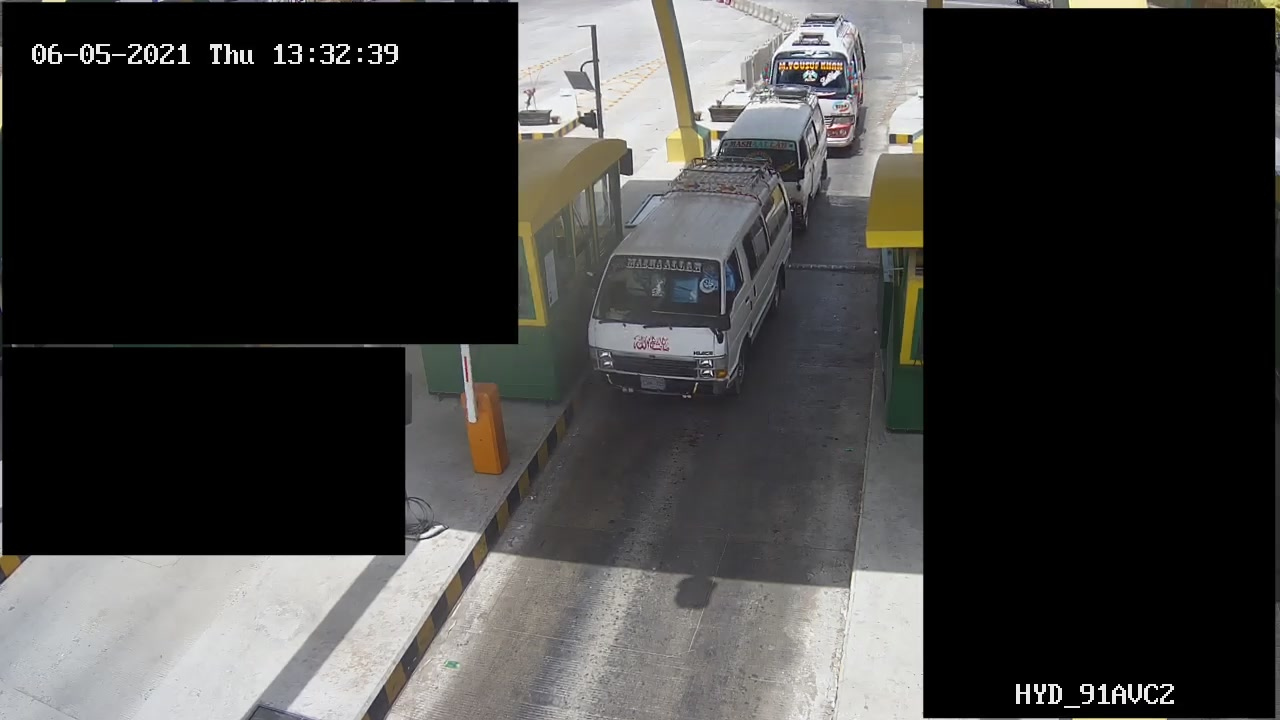F2: (578, 159, 783, 406)
